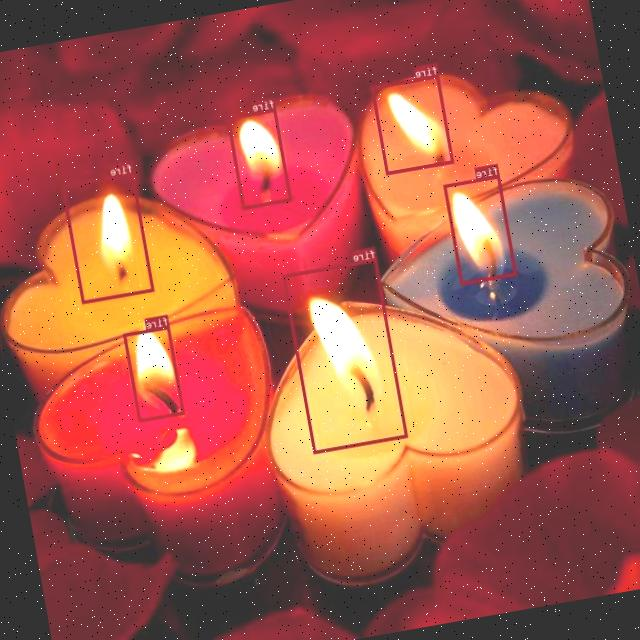fire: (283, 258, 408, 452), (62, 172, 154, 302), (371, 73, 455, 174), (443, 174, 518, 284), (226, 108, 292, 208), (123, 324, 185, 422)
